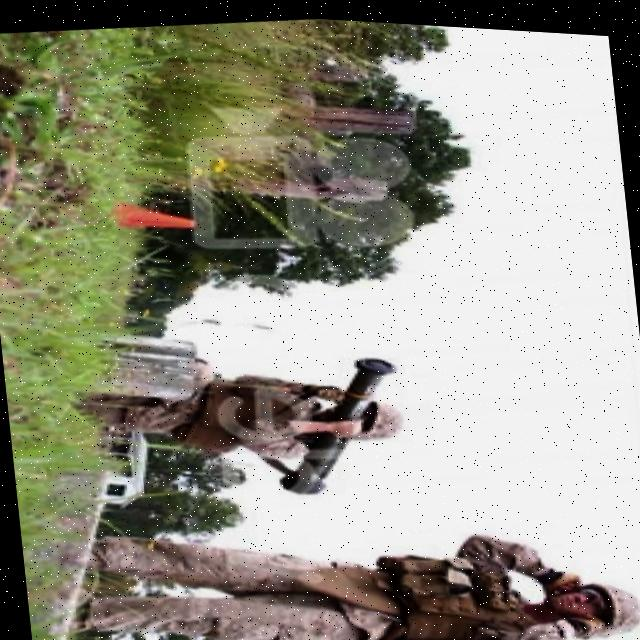rocket: (266, 339, 410, 503)
